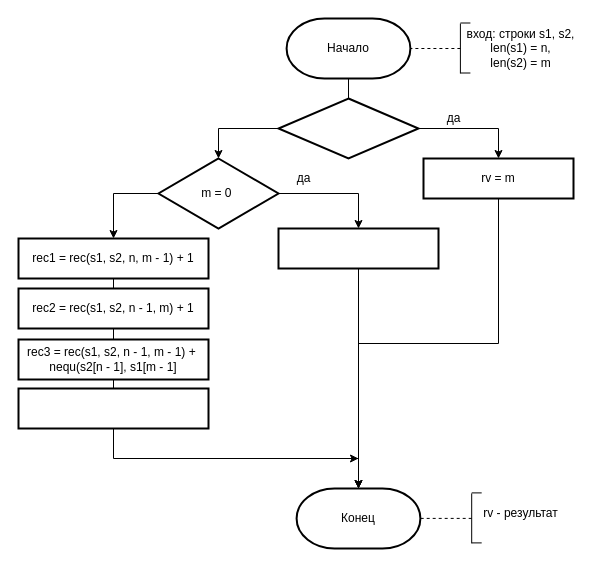
Image size: 602x566. Some labels were removed from this diagram. Each missing label, with the box of its shape:
n = 0: (277, 97, 419, 159)
rv = min(rec1, rec2, rec3): (17, 387, 209, 429)
rv = n: (277, 227, 439, 269)
